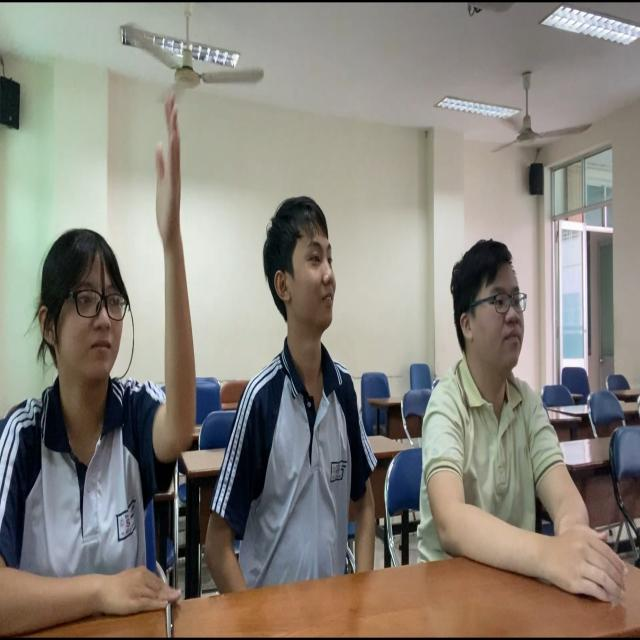raise_hand: (1, 92, 212, 640)
